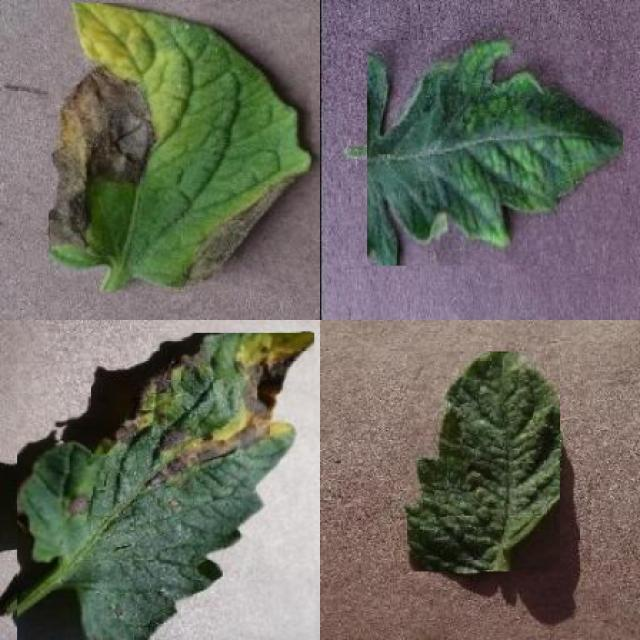Early Blight: (18, 333, 315, 640), (49, 3, 311, 291)
Mosaic Virus: (367, 40, 623, 266)
Spider Mites: (407, 352, 560, 572)
